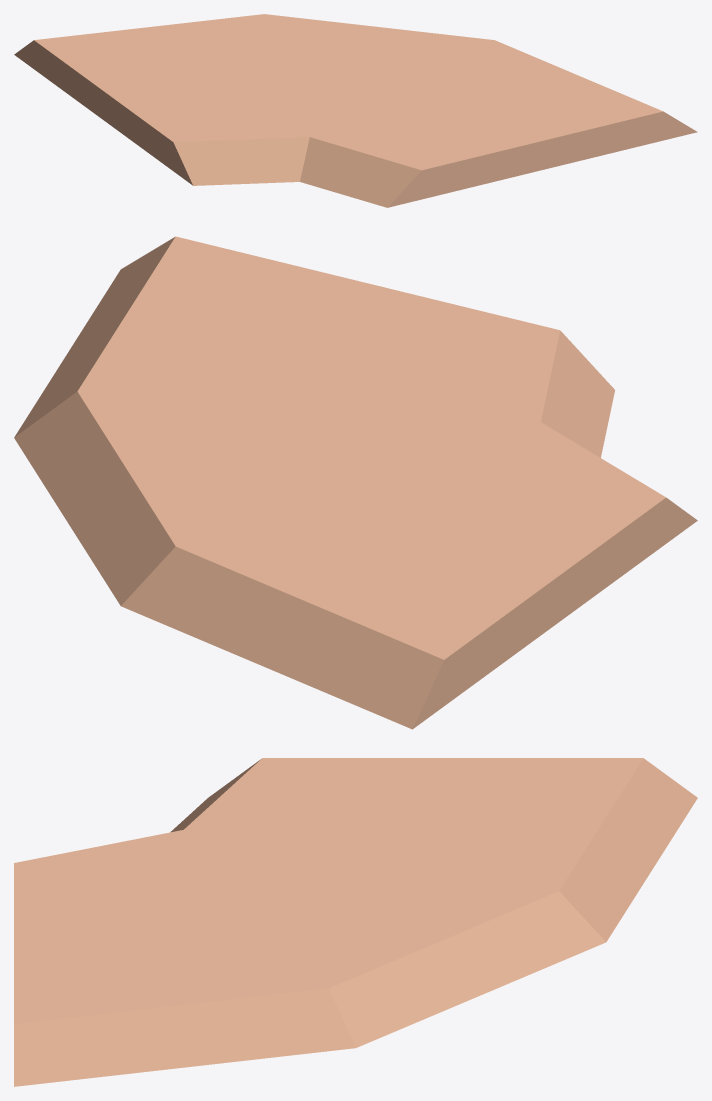
File: crops_dirtRowCorner.glb
3 views of the same model, one above another, from view 1: azimuth 30°, elevation 25°; view 2: azimuth 150°, elevation 25°; view 3: azimuth 270°, elevation 25° (orthographic). The views are drawn at different scales.
Parts seen in each view (by area): view 1: crops_dirtRowCorner; view 2: crops_dirtRowCorner; view 3: crops_dirtRowCorner.
Part boxes in pixels (x1=…): crops_dirtRowCorner: x1=14, y1=14, x2=697, y2=207; crops_dirtRowCorner: x1=14, y1=236, x2=697, y2=729; crops_dirtRowCorner: x1=14, y1=758, x2=697, y2=1086.
Size of the model in its own units: 0.9348 by 0.06 by 0.9348.
